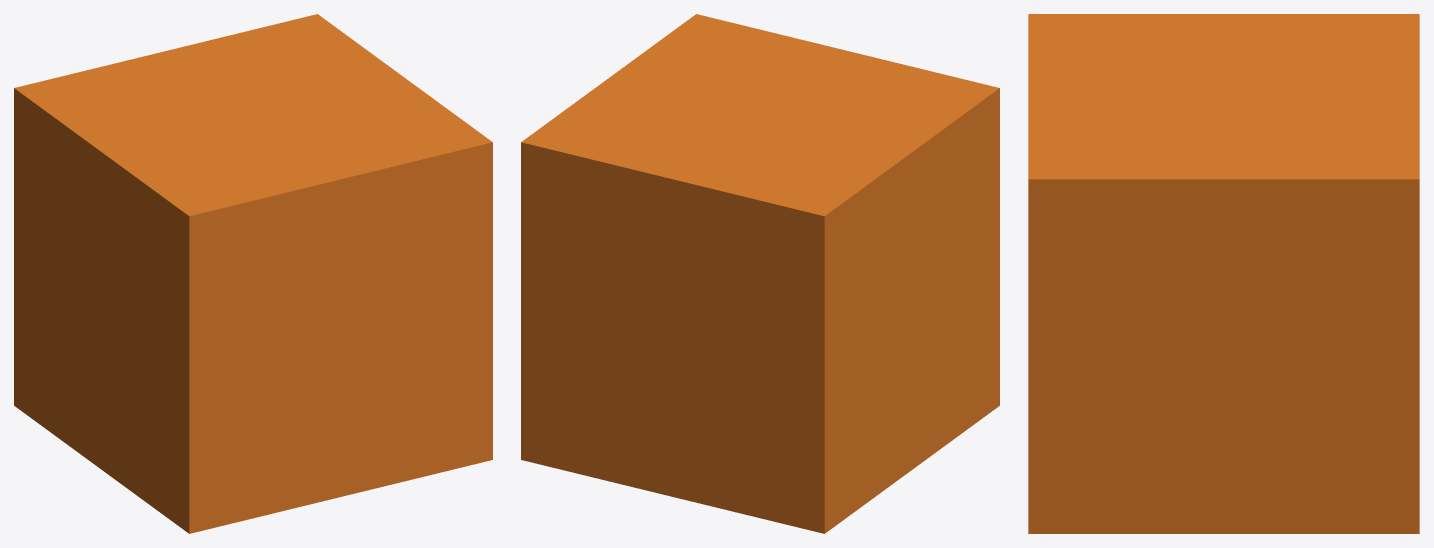
The model's file is GroundBlock.fbx.
The picture shows the model from 3 angles, left to right: view 1: azimuth 30°, elevation 25°; view 2: azimuth 150°, elevation 25°; view 3: azimuth 270°, elevation 25°; orthographic projection. The views are drawn at different scales.
Parts seen in each view (by area): view 1: GroundBlock; view 2: GroundBlock; view 3: GroundBlock.
Boxes of the visible parts, x1=… form: GroundBlock: x1=14, y1=14, x2=492, y2=533; GroundBlock: x1=521, y1=14, x2=999, y2=533; GroundBlock: x1=1028, y1=14, x2=1419, y2=533.
Size of the model in its own units: 200 by 200 by 200.
